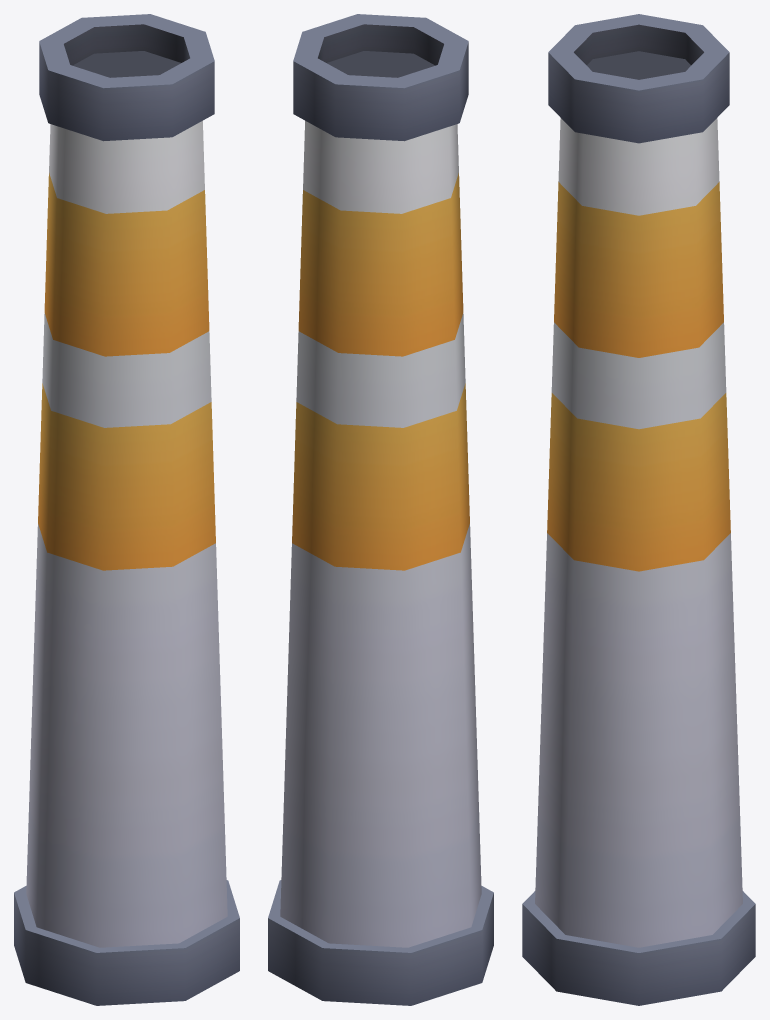
Rendered from kenney-city-industrial-chimney-medium.glb.
3 renders of one model, left to right at view 1: azimuth 30°, elevation 25°; view 2: azimuth 150°, elevation 25°; view 3: azimuth 270°, elevation 25°, orthographic.
Visible parts, largest first — view 1: chimney-medium; view 2: chimney-medium; view 3: chimney-medium.
Part boxes in pixels (left/top/right/bottom): chimney-medium: left=14, top=14, right=239, bottom=1005; chimney-medium: left=268, top=14, right=493, bottom=1005; chimney-medium: left=522, top=14, right=755, bottom=1005.
Size of the model in its own units: 0.45 by 1.92 by 0.45.
1 material, 1 textured.
